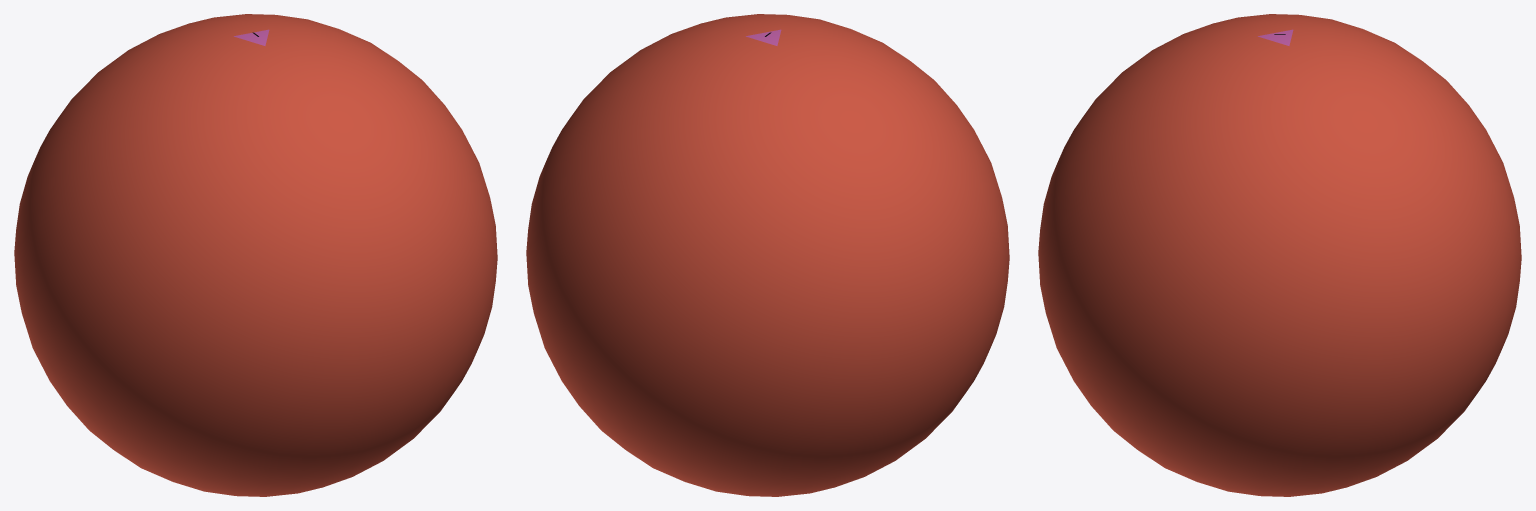
The picture shows the model from 3 angles, left to right: view 1: azimuth 30°, elevation 25°; view 2: azimuth 150°, elevation 25°; view 3: azimuth 270°, elevation 25°; orthographic projection.
Visible parts, largest first — view 1: d1; view 2: d1; view 3: d1.
Part boxes in pixels (x1,y1,x2,y2): d1: [14, 14, 497, 496]; d1: [526, 14, 1009, 496]; d1: [1038, 14, 1521, 496].
Bounding box in the file's own units: 2 × 2.01 × 2.
